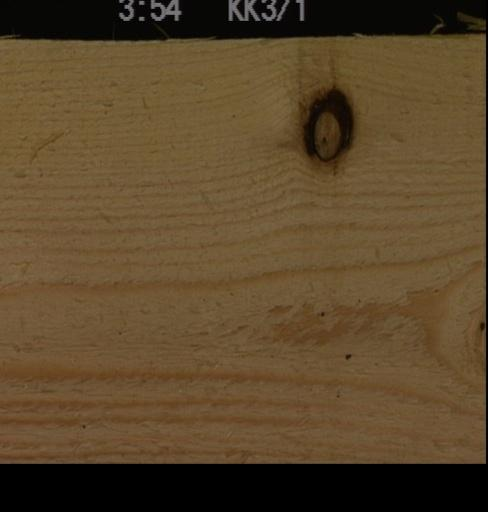small_knot: (476, 317, 485, 331)
